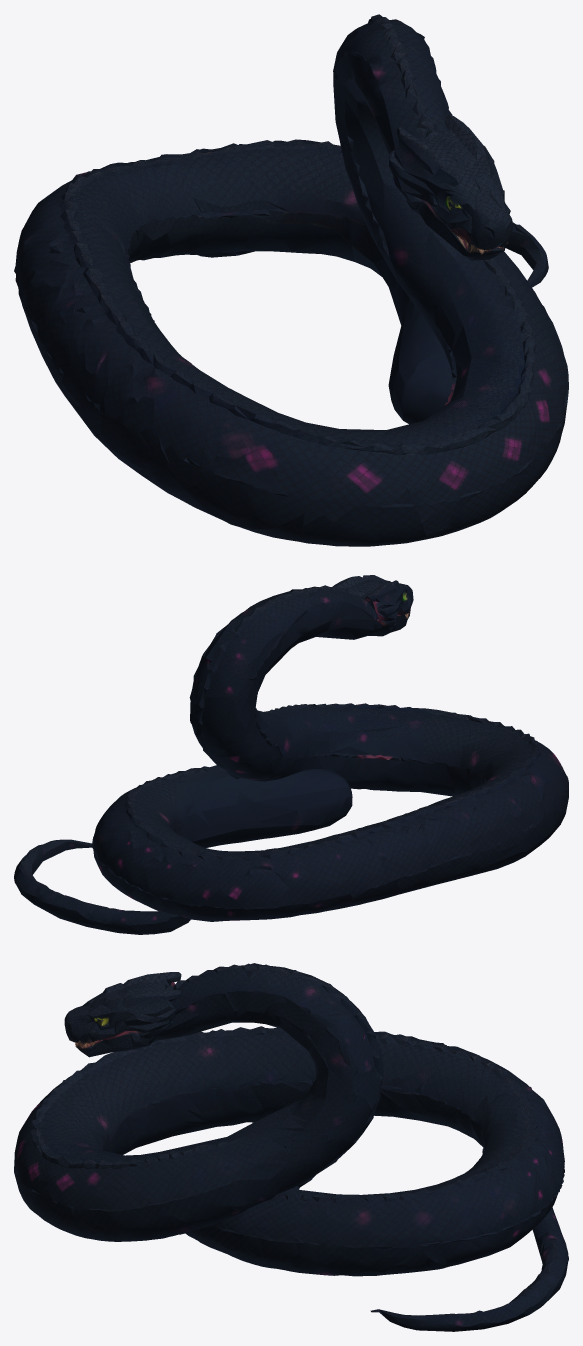
The model's file is serpente.glb.
The picture shows the model from 3 angles, top to bottom: view 1: azimuth 30°, elevation 25°; view 2: azimuth 150°, elevation 25°; view 3: azimuth 270°, elevation 25°; orthographic projection. The views are drawn at different scales.
Bounding box in the file's own units: 1.73 × 1.03 × 1.9.
1 material, 1 textured.
